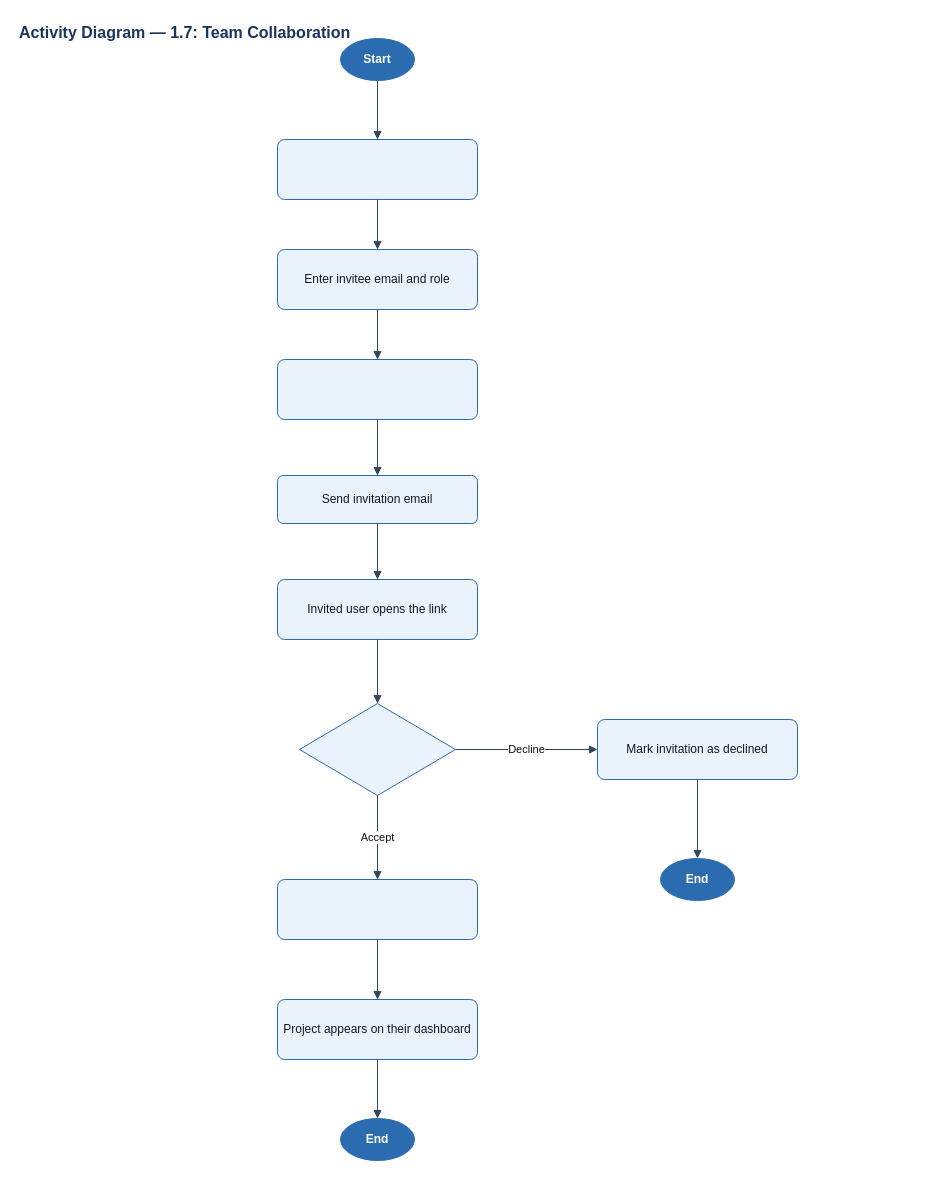
Some shapes in this 934 by 1178 pixel diagram are drawn without their labels. The shapes that lost their labels are listed below. From the top down, each one's centre as x and y in pixels, then its label:
At point (377, 169): "Owner / Admin opens Members".
At point (377, 389): "Create invitation with unique token".
At point (377, 749): "Invitation response?".
At point (377, 909): "Add user as member with assigned role".
